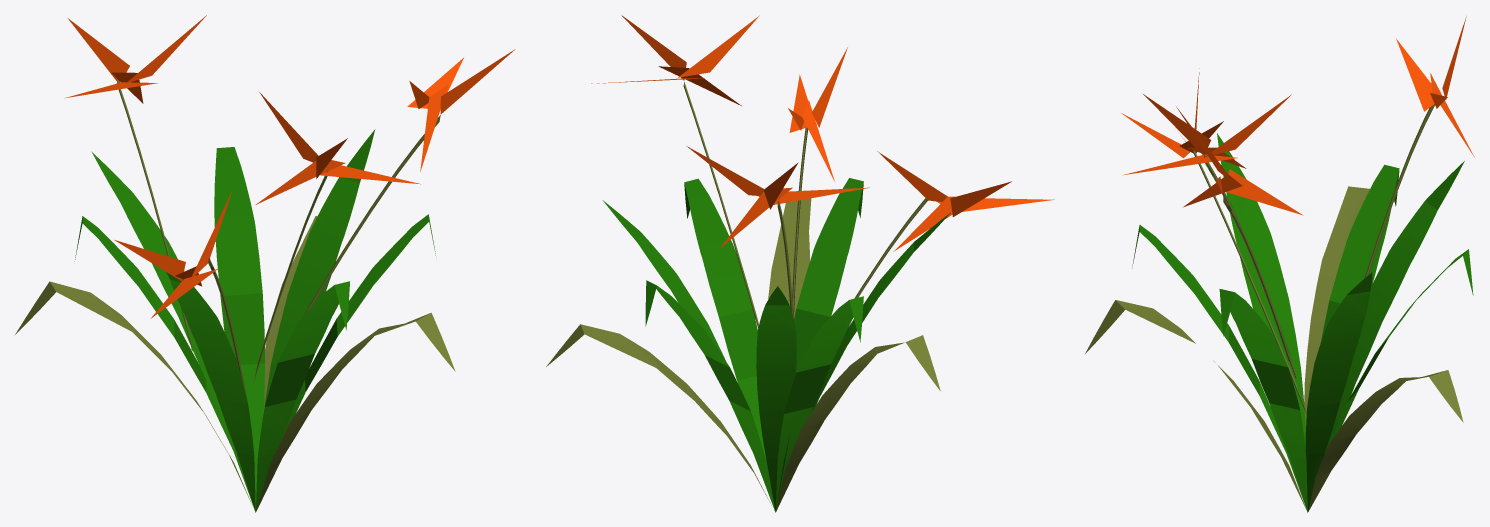
File: avedeParaiso.obj
The picture shows the model from 3 angles, left to right: view 1: azimuth 30°, elevation 25°; view 2: azimuth 150°, elevation 25°; view 3: azimuth 270°, elevation 25°; orthographic projection. The views are drawn at different scales.
Visible parts, largest first — view 1: BirdofParadise:Bird_of_Paradise1; view 2: BirdofParadise:Bird_of_Paradise1; view 3: BirdofParadise:Bird_of_Paradise1.
Part boxes in pixels (<box>): BirdofParadise:Bird_of_Paradise1: <box>15,15,515,512</box>; BirdofParadise:Bird_of_Paradise1: <box>546,15,1054,512</box>; BirdofParadise:Bird_of_Paradise1: <box>1085,16,1474,512</box>.
Size of the model in its own units: 1.03 by 1.07 by 0.8484.
Materials: 3 (2 with a texture image).
